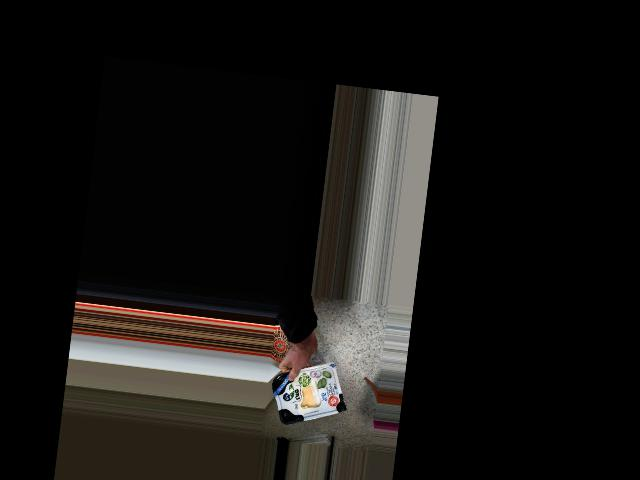cheese: (276, 364, 343, 422)
